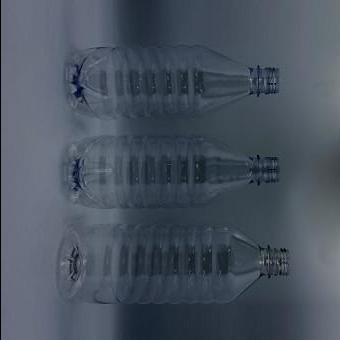bottle: (57, 220, 288, 307), (62, 130, 279, 210), (64, 47, 279, 115)
